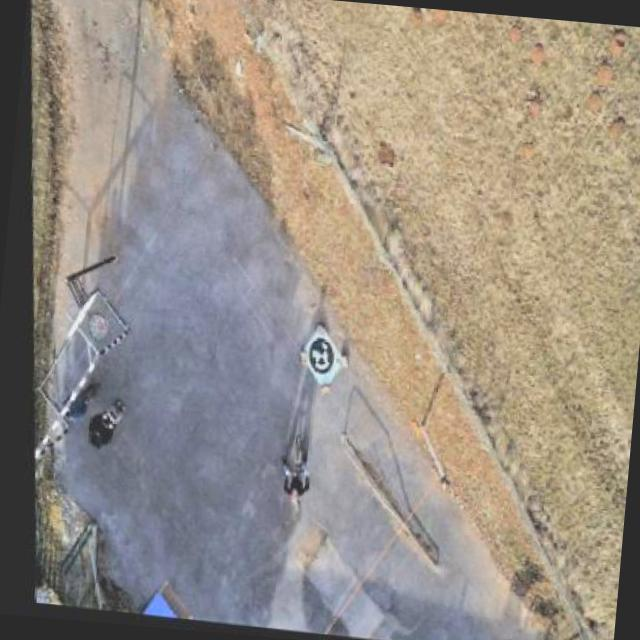Person: (70, 390, 132, 464), (264, 461, 312, 518)
